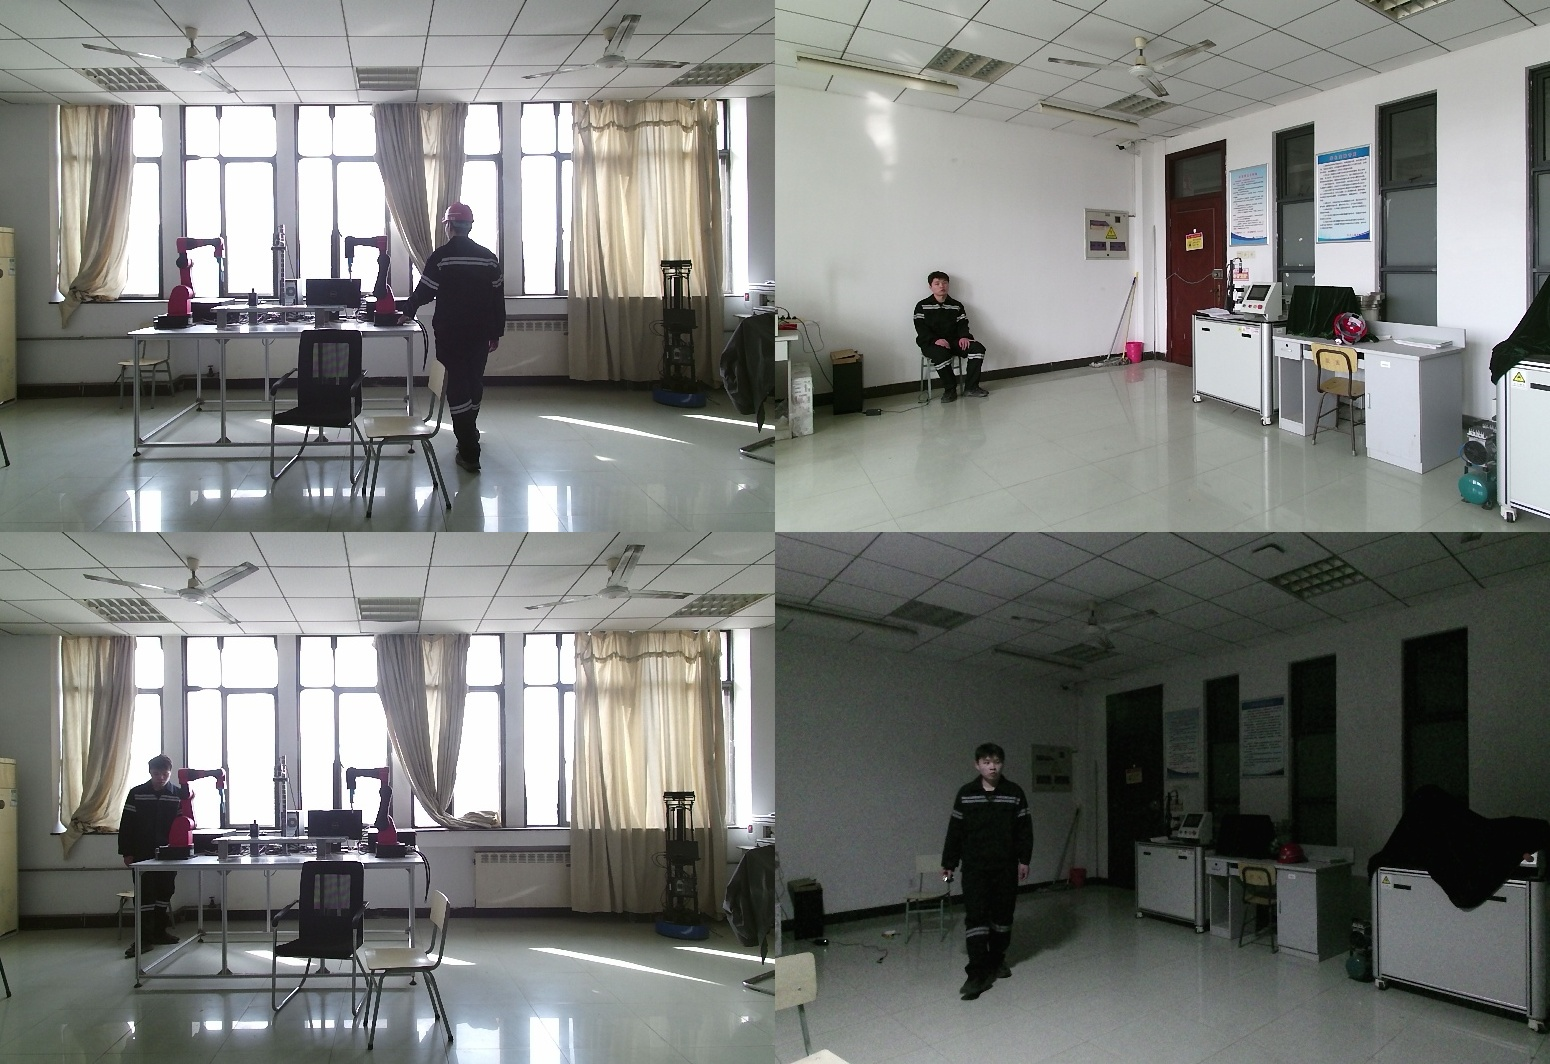person: (408, 203, 516, 478), (943, 747, 1040, 997), (116, 755, 188, 960), (910, 270, 987, 405)
